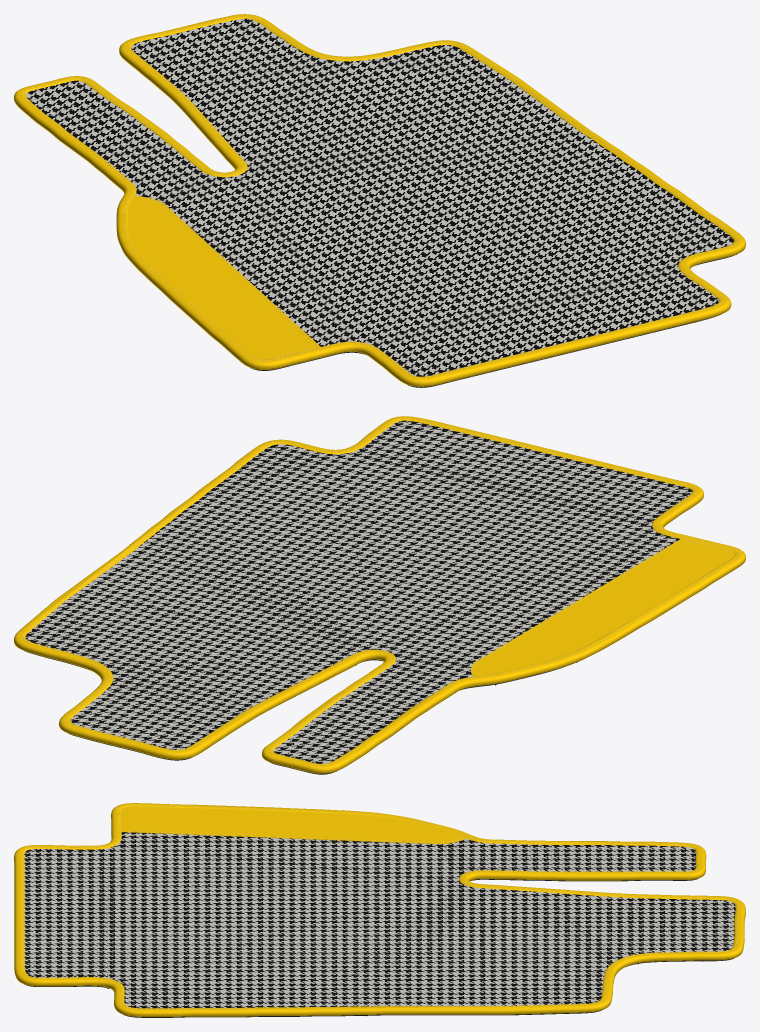
File: CarMat_Codex_Web.glb
3 views of the same model, one above another, from view 1: azimuth 30°, elevation 25°; view 2: azimuth 150°, elevation 25°; view 3: azimuth 270°, elevation 25° (orthographic). The views are drawn at different scales.
Visible parts, largest first — view 1: MainFabric, Edge, Accent, Stitch; view 2: MainFabric, Edge, Accent, Stitch; view 3: MainFabric, Edge, Accent, MainBody, Stitch.
Boxes of the visible parts, x1,y1,x2,y2 form: MainFabric: [26, 18, 733, 376]; Edge: [14, 14, 745, 386]; Accent: [128, 195, 320, 359]; Stitch: [22, 16, 737, 377]; MainFabric: [25, 420, 692, 763]; Edge: [14, 416, 745, 773]; Accent: [471, 538, 734, 676]; Stitch: [21, 418, 737, 764]; MainFabric: [24, 832, 735, 1008]; Edge: [14, 803, 745, 1016]; Accent: [120, 806, 466, 844]; MainBody: [24, 878, 734, 1017]; Stitch: [21, 804, 738, 1008].
Bounding box in the file's own units: 0.4618 × 0.00875 × 0.6799.
Materials: 6 (1 with a texture image).
